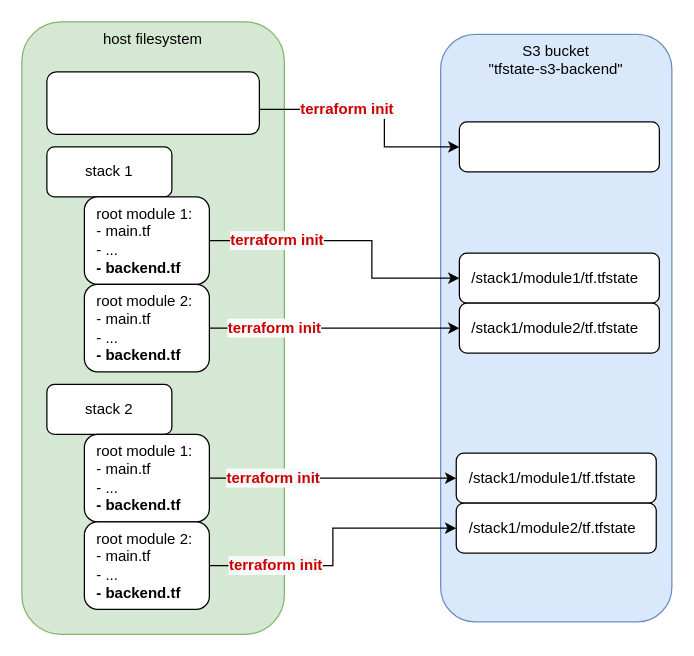
The diagram is 694 pixels wide and 656 high, and some of its shapes have lost their labels. Each missing label, with the centre of its shape:
/_manager_/tf.tfstate: the point at 558,146
tfstate_backends_manager: - main.tf - backend.tf: the point at 152,102
